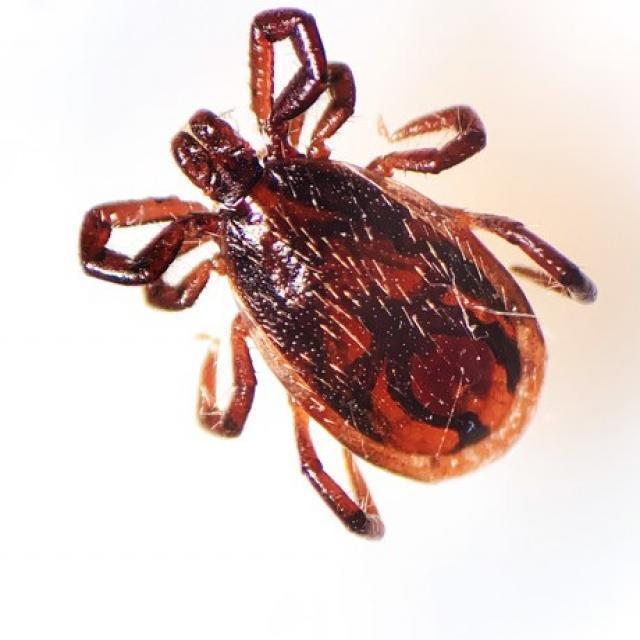Ixodes Ricinus-M: (78, 7, 598, 541)
